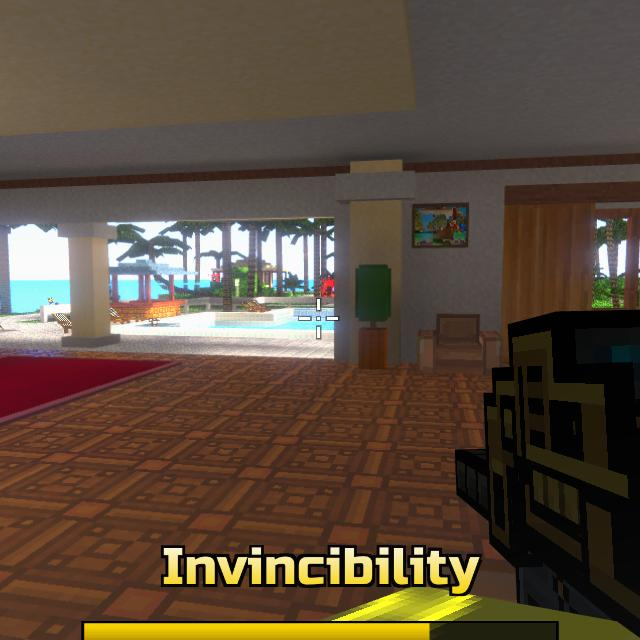Enemy: (323, 284, 332, 297)
